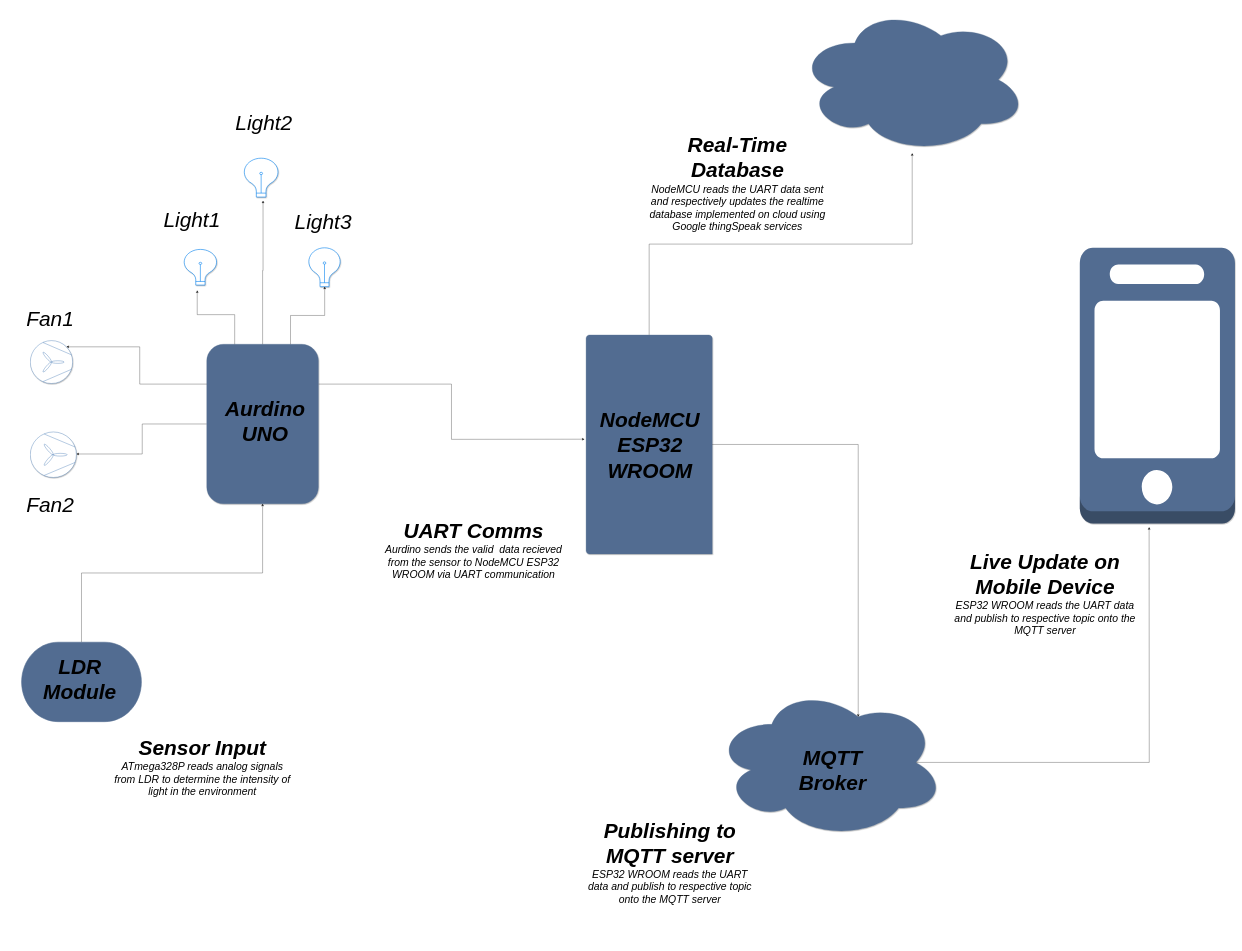
Image size: 1242x951. Some labels were removed from this diagram. The shapes that lost their labels are listed below. From the top down, each one's centre as x and y in pixels, then its label:
At (912,80): "ThingSpeak".
At (1157,386): "MQTT Dashboard App".
